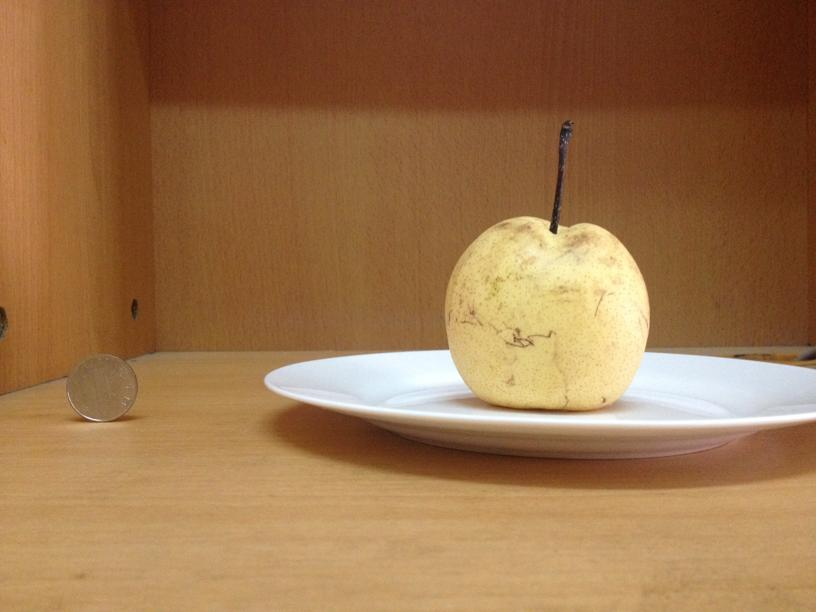coin: (68, 354, 139, 421)
pear: (442, 216, 652, 408)
